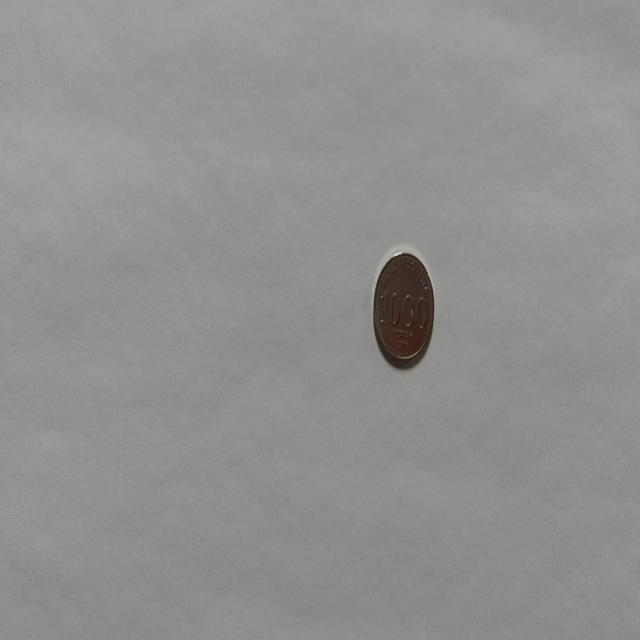seribu rupiah koin: (372, 248, 434, 369)
